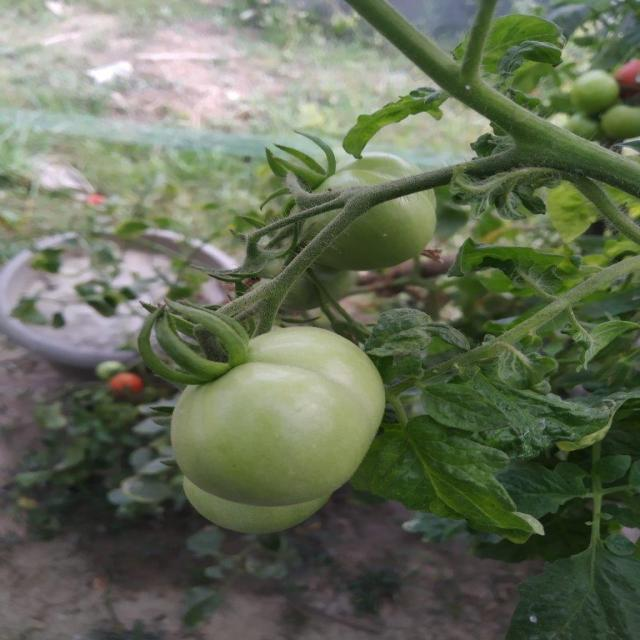Unripe: (170, 322, 389, 502)
